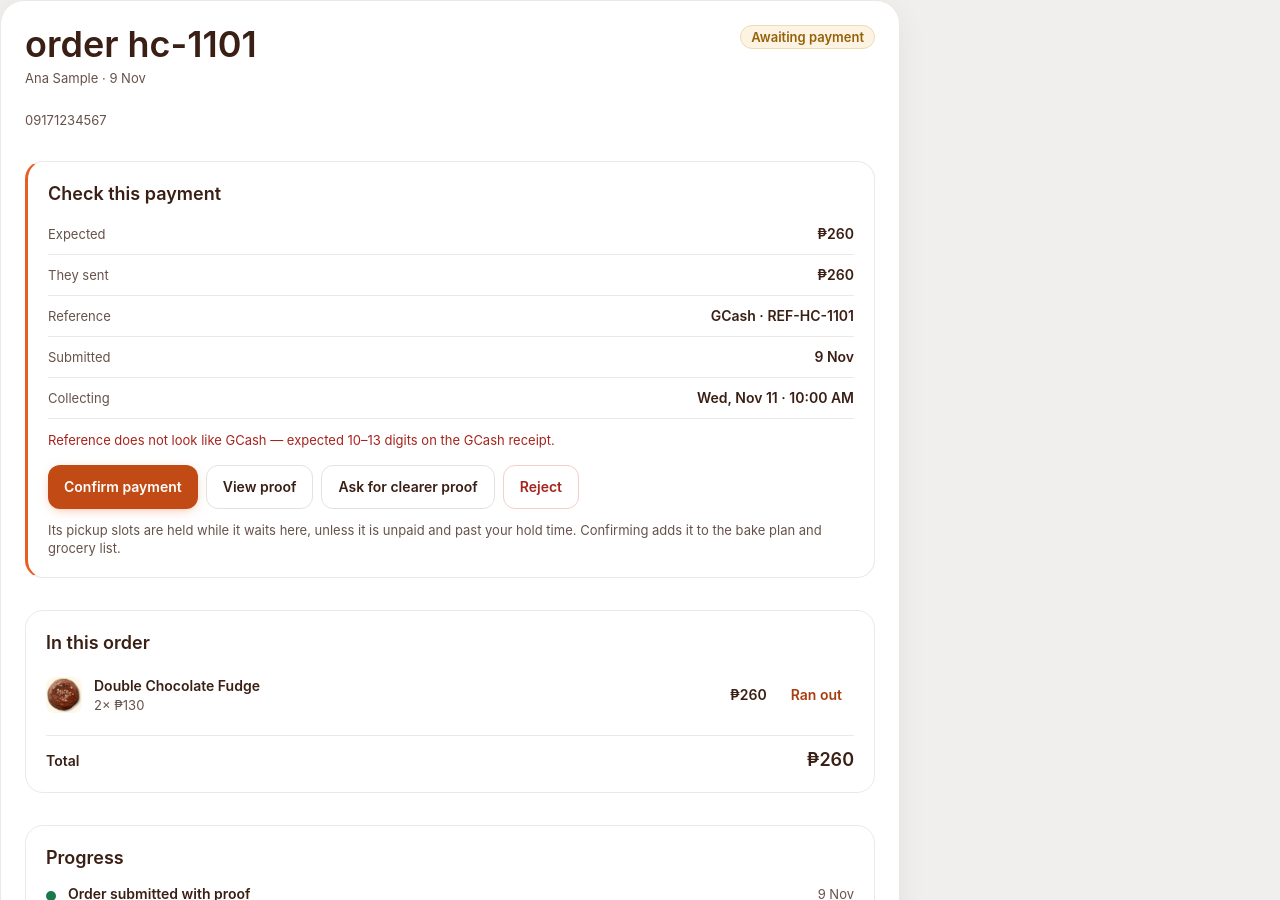
Test case: rejecting a payment asks first › the dialog closes when another order is opened, and does not send for it
Click the button "Reject" at (541, 487), box [503,465,579,509]
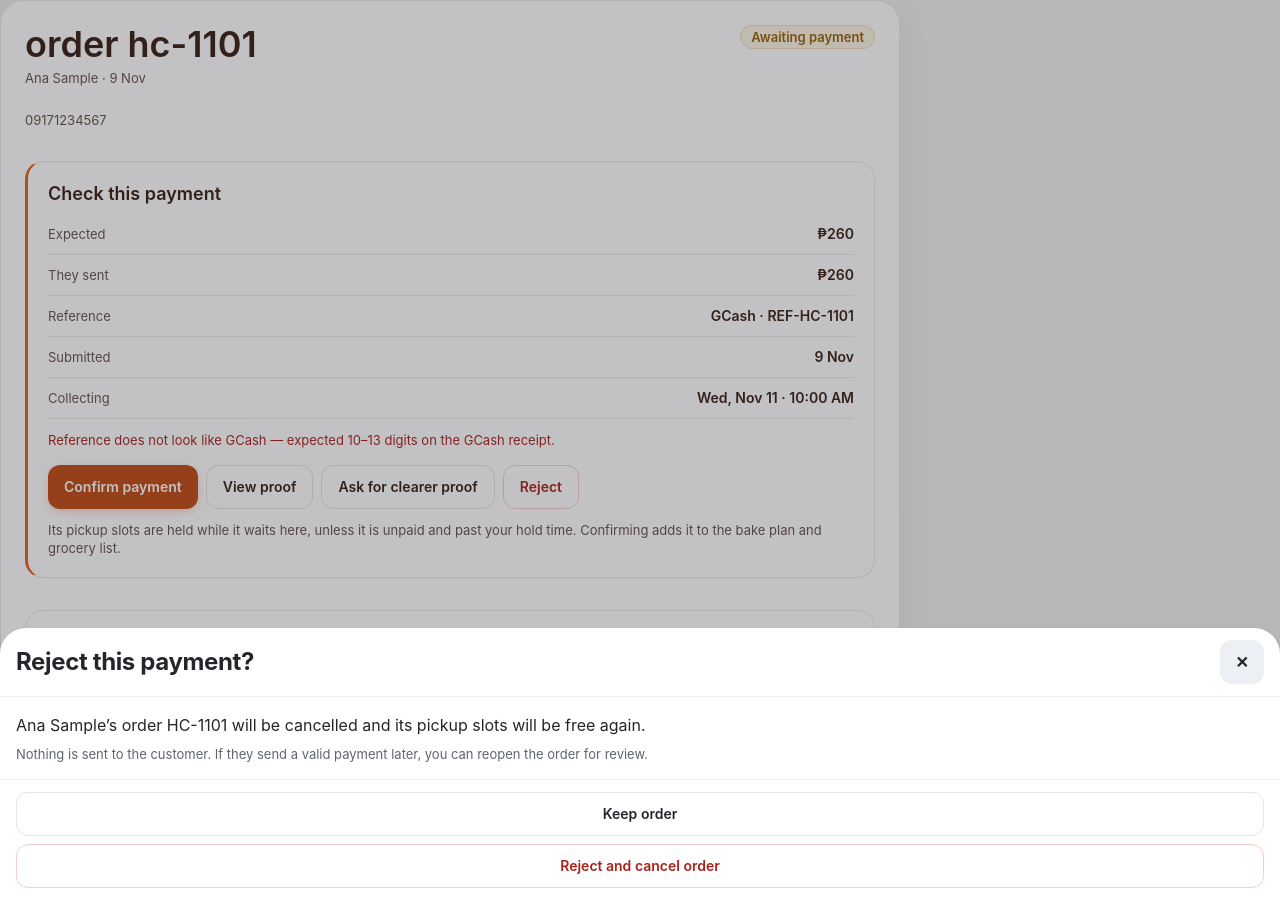
Check: the dialog is shown, box [0,628,1279,899]
